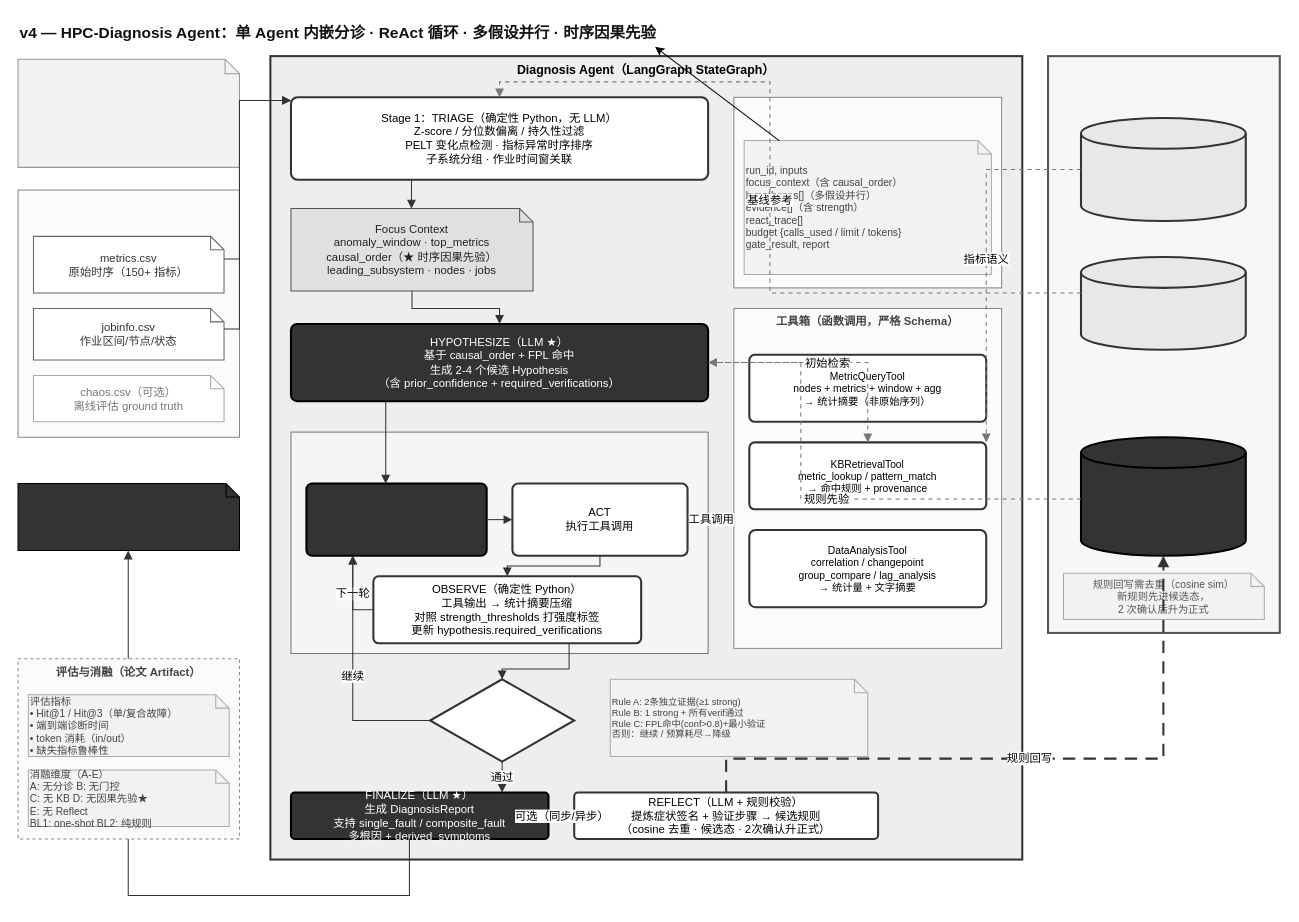
The diagram is 1299 pixels wide and 922 high, and some of its shapes have lost their labels. Here are the shapes that lost their labels. From the top down, the box of each, then its label:
(17, 58, 239, 167): 图例 —— 实线：数据/控制流 - - 细虚线：检索/知识引用 ━ ━ 粗虚线：规则回写（进化） ★ 深色节点：LLM 节点
(1079, 116, 1246, 221): Metric KB 指标定义/单位/正常范围 strength_thresholds 子系统映射
(733, 96, 1002, 288): Agent State（可 JSON 序列化）
(17, 189, 239, 437): 输入
(1079, 255, 1246, 350): Baseline Profile 均值/方差/分位数 （按 workload 类型）
(1046, 55, 1280, 633): Layer 0：离线知识库（一次性构建，持续更新）
(1079, 436, 1246, 556): Fault Pattern Library 症状签名 → 根因 验证步骤/建议 来源+版本（候选/正式）
(17, 483, 239, 551): 输出 DiagnosisReport + ExecutionTrace
(305, 482, 487, 556): THINK（LLM ★） 推理：更新假设置信度 输出 Thought + 下一步 Action
(290, 431, 708, 654): ReAct 推理循环（每次工具调用前后均有 Thought）
(428, 678, 575, 762): GATE （纯 Python 规则）
